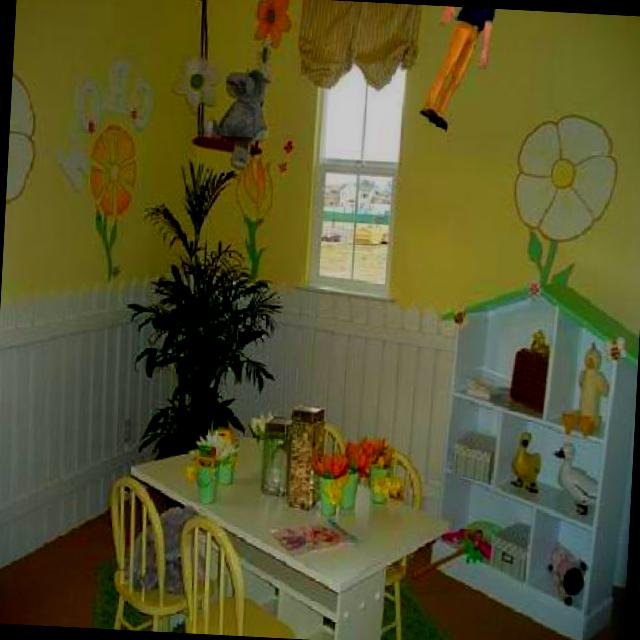Person: (414, 5, 500, 136)
